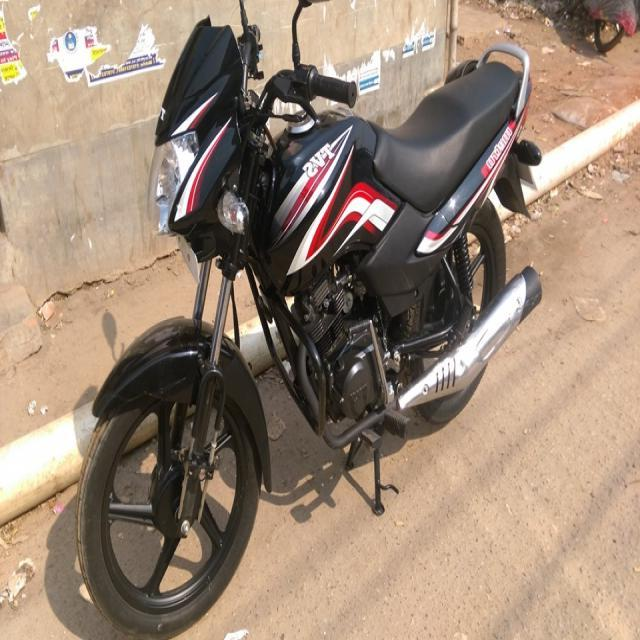Motorbike: (1, 1, 568, 640)
